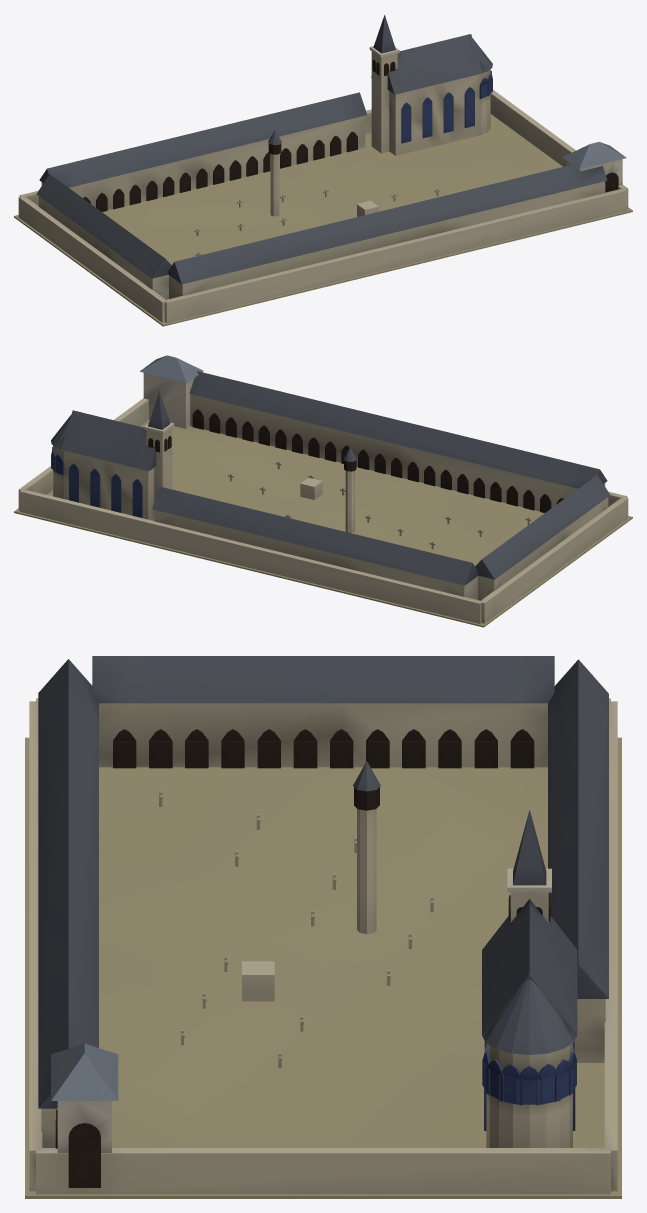
The model's file is innocents.glb.
3 renders of one model, top to bottom at view 1: azimuth 30°, elevation 25°; view 2: azimuth 150°, elevation 25°; view 3: azimuth 270°, elevation 25°, orthographic. The views are drawn at different scales.
Parts seen in each view (by area): view 1: p0_walls, p2_charnels, p1_church; view 2: p2_charnels, p0_walls, p1_church; view 3: p0_walls, p2_charnels, p1_church.
Part boxes in pixels (x1=…): p0_walls: x1=14, y1=90, x2=632, y2=326; p2_charnels: x1=36, y1=92, x2=626, y2=299; p1_church: x1=369, y1=15, x2=492, y2=155; p2_charnels: x1=140, y1=355, x2=610, y2=600; p0_walls: x1=14, y1=398, x2=632, y2=627; p1_church: x1=51, y1=391, x2=174, y2=520; p0_walls: x1=25, y1=698, x2=621, y2=1198; p2_charnels: x1=38, y1=656, x2=608, y2=1187; p1_church: x1=482, y1=810, x2=577, y2=1147.
Size of the model in its own units: 100 by 27.54 by 55.
